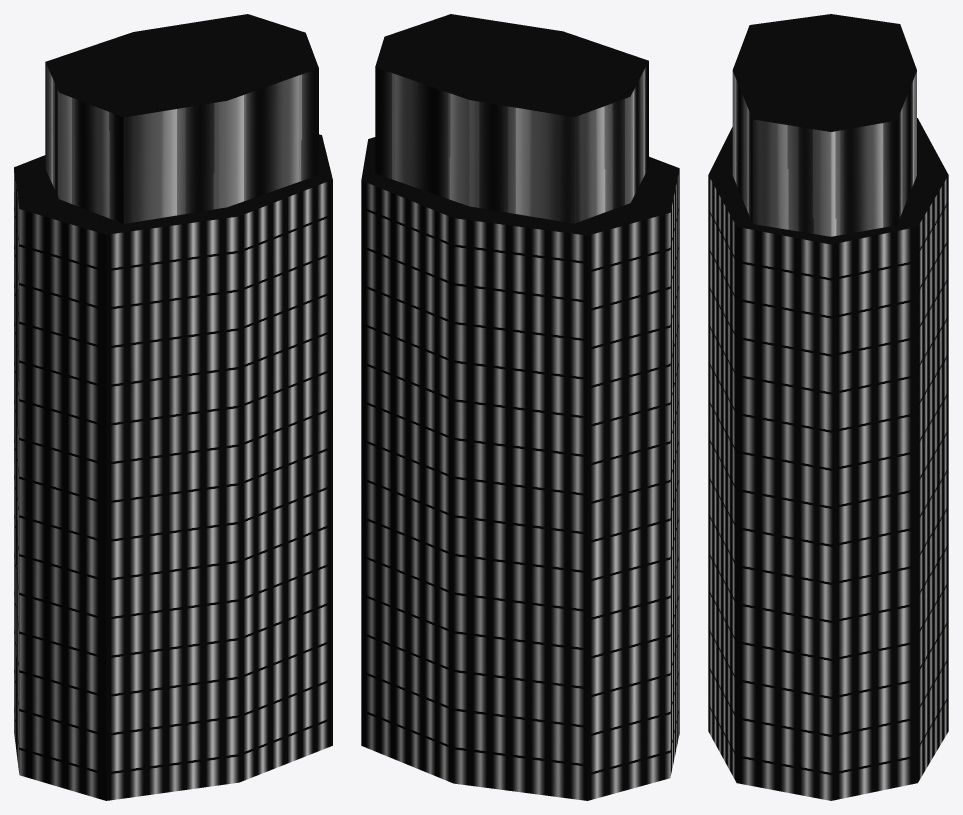
Rendered from Circular_Tower.fbx.
The picture shows the model from 3 angles, left to right: view 1: azimuth 30°, elevation 25°; view 2: azimuth 150°, elevation 25°; view 3: azimuth 270°, elevation 25°; orthographic projection.
Visible parts, largest first — view 1: Circular_Tower; view 2: Circular_Tower; view 3: Circular_Tower.
Boxes of the visible parts, x1,y1,x2,y2 form: Circular_Tower: [14, 14, 332, 800]; Circular_Tower: [361, 14, 679, 800]; Circular_Tower: [708, 14, 948, 800].
Size of what is drawn, in the model's own units: 0.7463 by 1.59 by 0.5224.
Materials: 1 (1 with a texture image).
